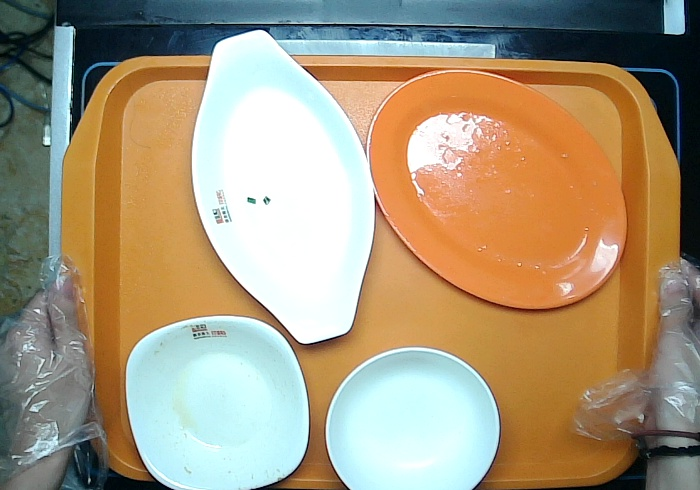NLDX-Bai_Se_Xiao_Fang_Die: (123, 312, 311, 490)
NLDX-Fan_Wan: (323, 345, 503, 490)
NLDX-Ju_Se_Pan: (364, 67, 630, 313)
NLDX-Yu_Pan: (189, 26, 379, 346)
